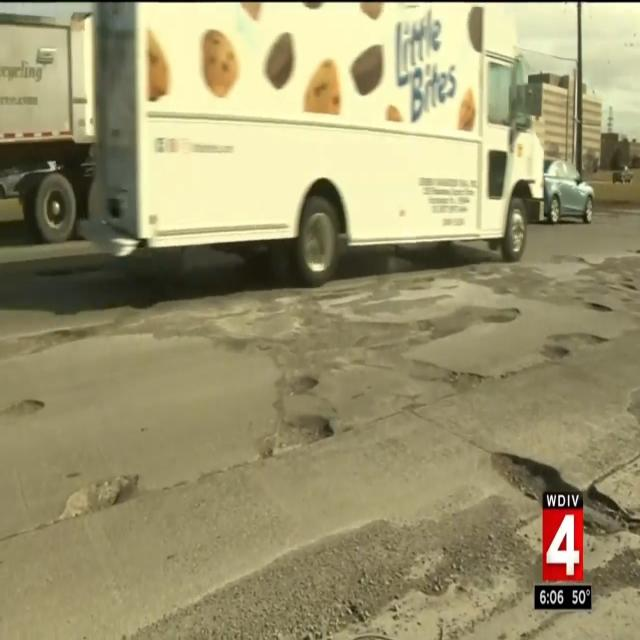pothole: (260, 372, 336, 458), (492, 452, 581, 504), (584, 454, 640, 536), (5, 320, 112, 356), (58, 476, 138, 520), (418, 305, 521, 339), (410, 359, 484, 392), (550, 332, 610, 344), (586, 301, 613, 311)
